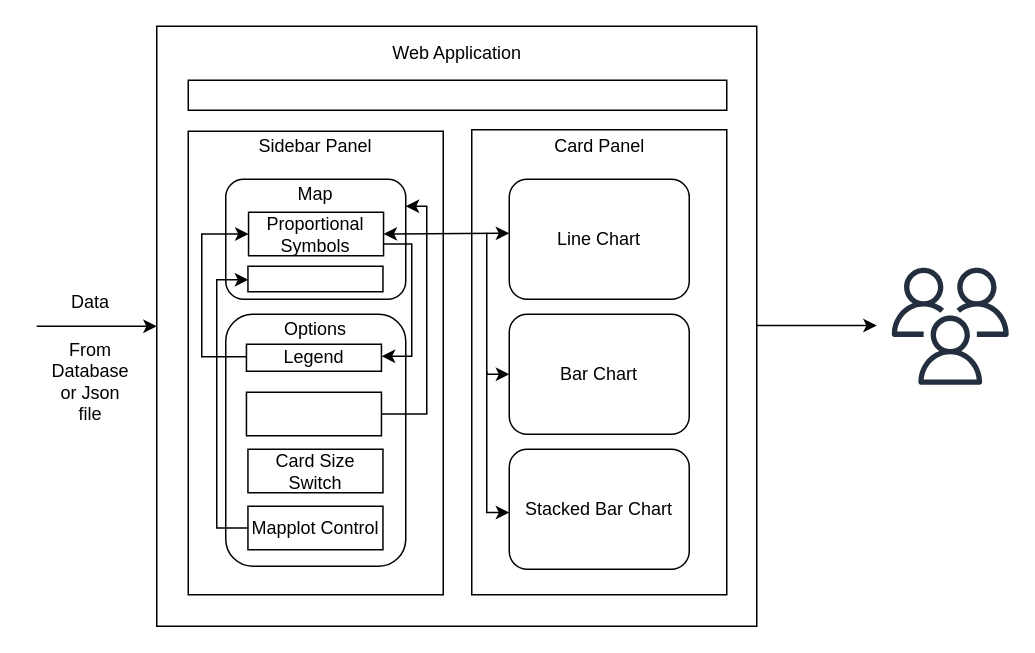
Some shapes in this 1035 by 653 pixel diagram are drawn without their labels. The centre of each missing label's shape, as x and y in pixels:
Basemap Type Change: (x=313, y=413)
Plot on map?: (x=314, y=278)
Tutorial: (x=457, y=94)
